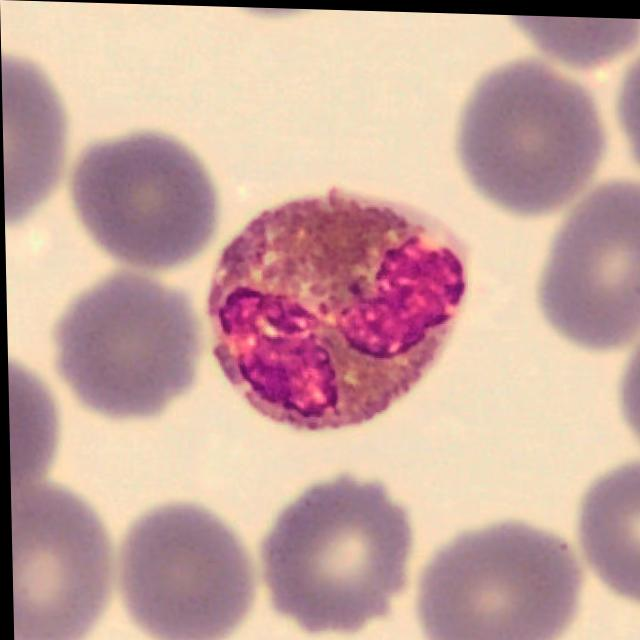Eosinofilo: (208, 184, 468, 430)
